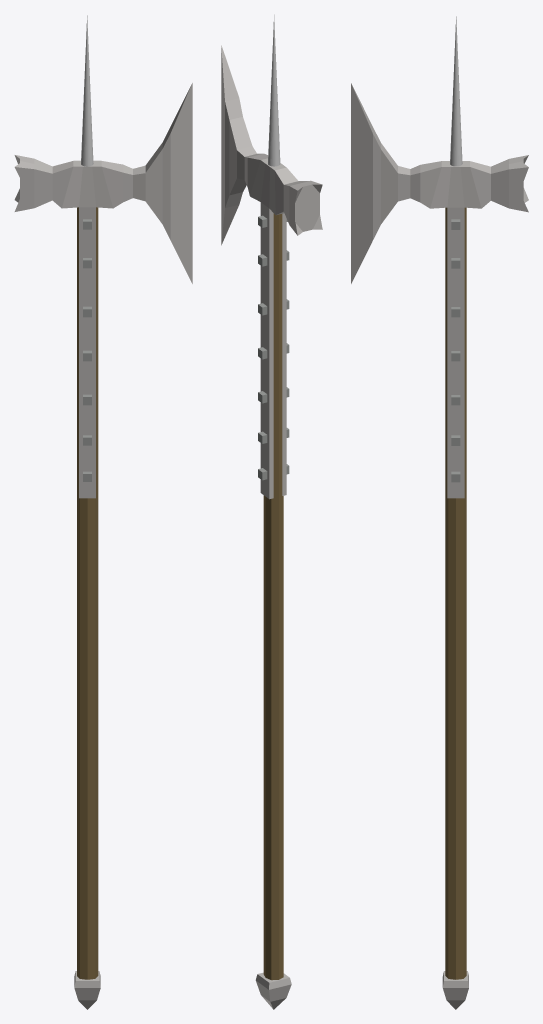
The model's file is Halberd.fbx.
3 renders of one model, left to right at view 1: azimuth 90°, elevation 25°; view 2: azimuth 210°, elevation 25°; view 3: azimuth 270°, elevation 25°, orthographic.
Visible parts, largest first — view 1: Cube.001, Cube, Cube.002, Cube.009, Cone; view 2: Cube, Cube.001, Cube.002, Cube.009, Cone; view 3: Cube.001, Cube, Cube.002, Cube.009, Cone.
Boxes of the visible parts, <box> form: Cube.001: <box>14,83,192,498</box>; Cube: <box>77,207,98,979</box>; Cube.002: <box>81,15,93,166</box>; Cube.009: <box>83,219,91,481</box>; Cone: <box>74,971,100,1009</box>; Cube: <box>263,213,283,980</box>; Cube.001: <box>221,45,322,499</box>; Cube.002: <box>268,14,280,166</box>; Cube.009: <box>258,215,289,480</box>; Cone: <box>255,972,291,1009</box>; Cube.001: <box>351,83,528,498</box>; Cube: <box>445,207,466,979</box>; Cube.002: <box>450,16,462,166</box>; Cube.009: <box>451,219,460,482</box>; Cone: <box>442,971,468,1009</box>.
Bounding box in the file's own units: 29.58 × 1039 × 168.
